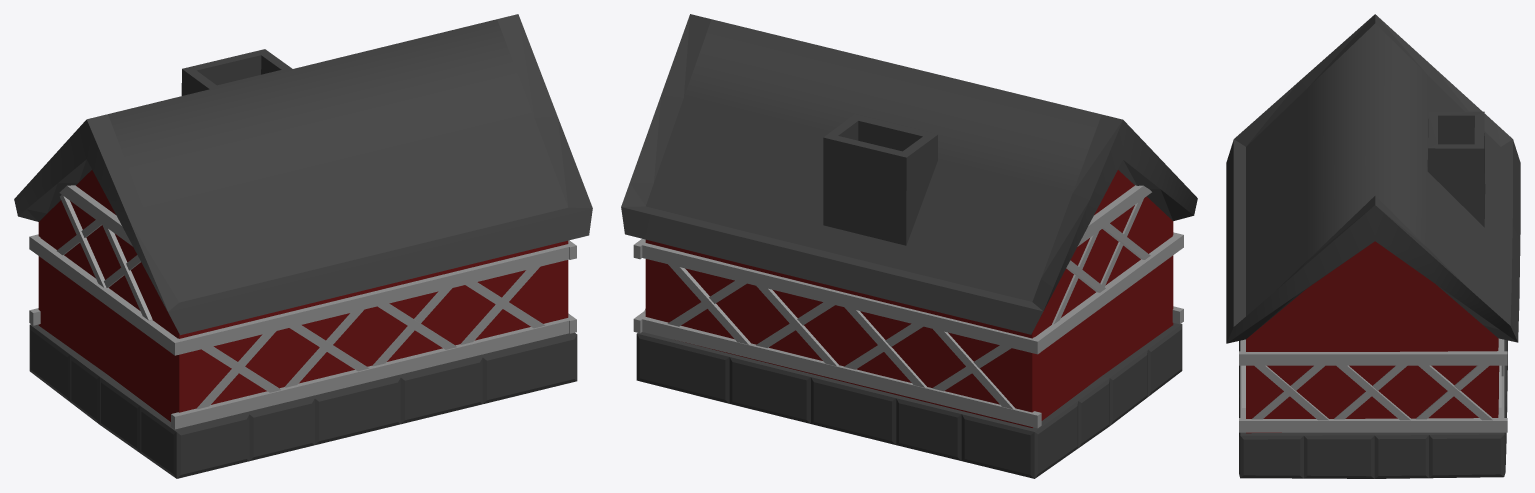
File: casaFazenda.FBX
The picture shows the model from 3 angles, left to right: view 1: azimuth 30°, elevation 25°; view 2: azimuth 150°, elevation 25°; view 3: azimuth 270°, elevation 25°; orthographic projection. The views are drawn at different scales.
Visible parts, largest first — view 1: Box001; view 2: Box001; view 3: Box001.
Boxes of the visible parts, x1=… form: Box001: x1=14, y1=14, x2=592, y2=478; Box001: x1=621, y1=14, x2=1197, y2=478; Box001: x1=1226, y1=14, x2=1520, y2=478.
Bounding box in the file's own units: 124 × 84.54 × 80.5.
